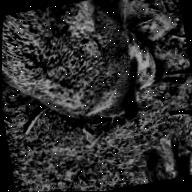boar: (1, 0, 184, 145)
